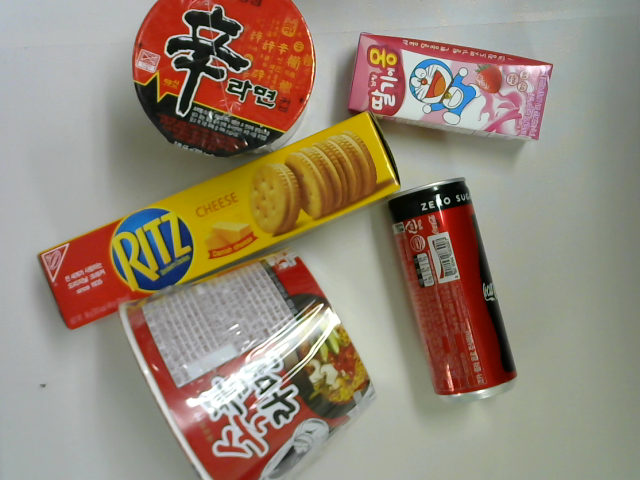Coca_Cola_Zero_Can_250ml: (385, 177, 520, 408)
Hejangpul: (114, 247, 380, 480)
Ritz_Sand_Cracker: (36, 109, 402, 334)
Sinramen_small: (133, 1, 314, 161)
Strawberry_E_Mong: (346, 31, 556, 148)
